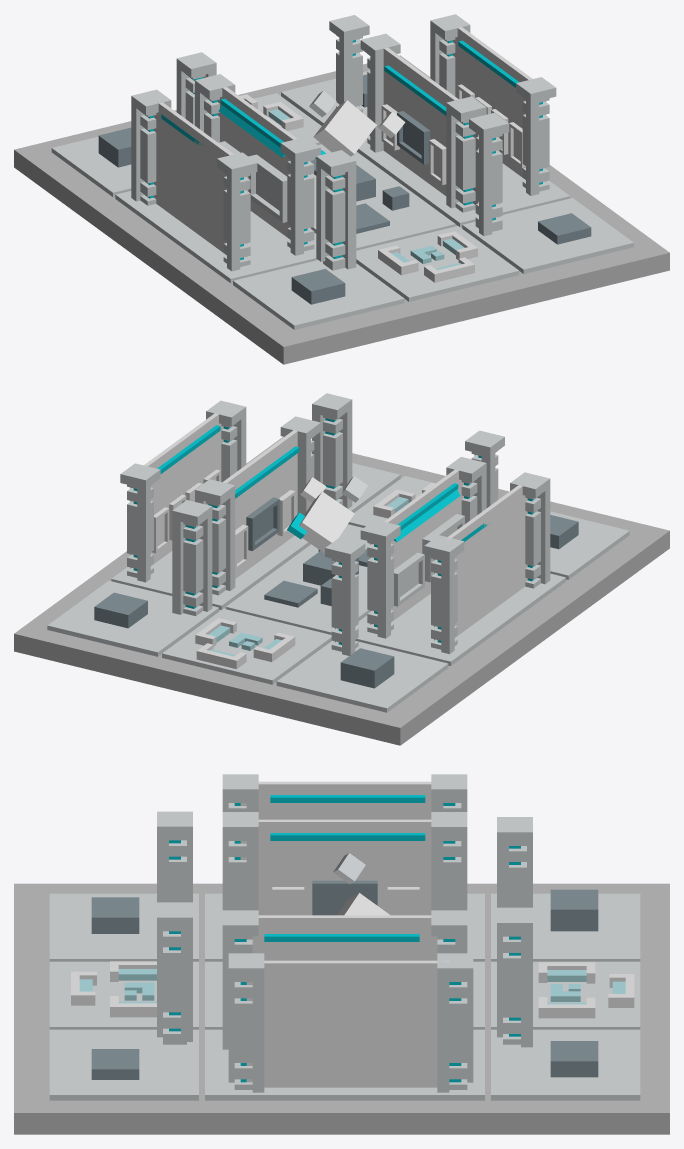
Rendered from Gallery.gltf.
3 views of the same model, one above another, from view 1: azimuth 30°, elevation 25°; view 2: azimuth 150°, elevation 25°; view 3: azimuth 270°, elevation 25° (orthographic). The views are drawn at different scales.
Visible parts, largest first — view 1: mesh_1942364772; view 2: mesh_1942364772; view 3: mesh_1942364772.
Boxes of the visible parts, x1,y1,x2,y2 form: mesh_1942364772: (14,14,669,364); mesh_1942364772: (14,393,669,745); mesh_1942364772: (14,774,669,1134).
Size of the model in its own units: 0.91 by 0.2926 by 1.1.
